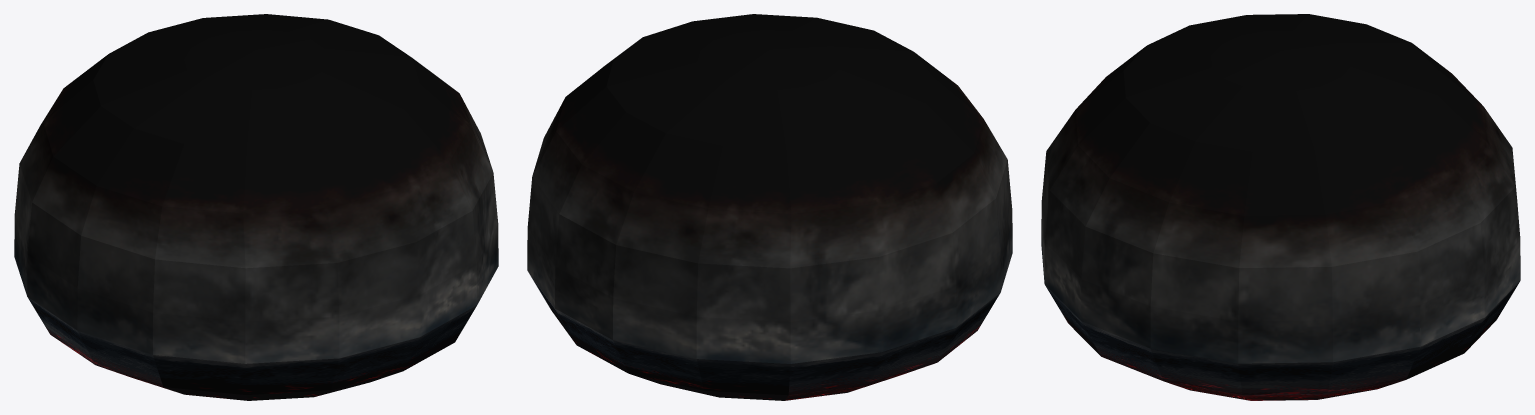
The picture shows the model from 3 angles, left to right: view 1: azimuth 30°, elevation 25°; view 2: azimuth 150°, elevation 25°; view 3: azimuth 270°, elevation 25°; orthographic projection.
Visible parts, largest first — view 1: mesh00; view 2: mesh00; view 3: mesh00.
Boxes of the visible parts, box(x1,y1,x2,y2) form: mesh00: box(14, 14, 498, 400); mesh00: box(527, 14, 1012, 400); mesh00: box(1041, 14, 1520, 400).
Size of the model in its own units: 105124 by 67677 by 105118.
Materials: 3 (3 with a texture image).
